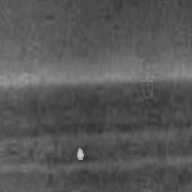Target: (75, 146, 86, 161)
